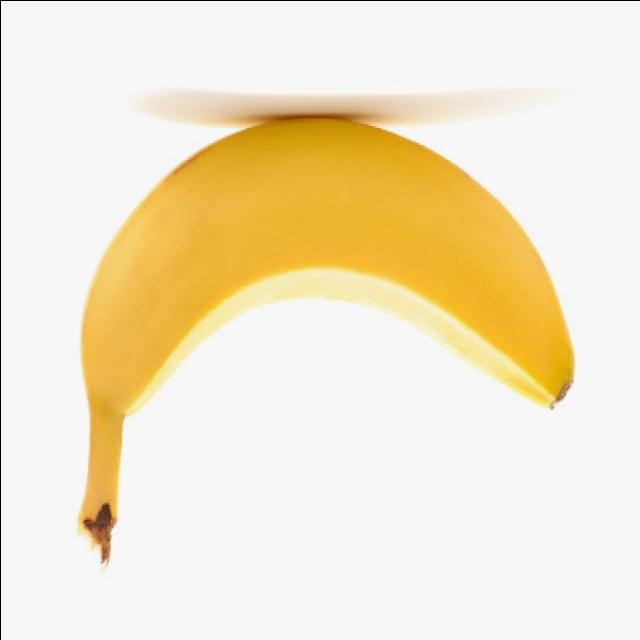agrume: (73, 110, 575, 564)
